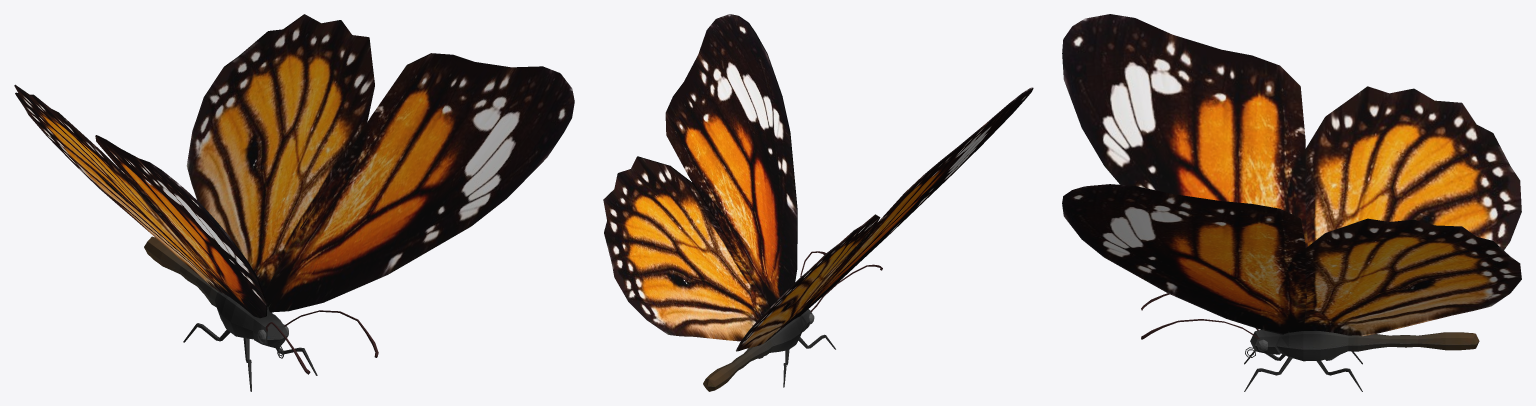
Rendered from mariposa.glb.
The picture shows the model from 3 angles, left to right: view 1: azimuth 30°, elevation 25°; view 2: azimuth 150°, elevation 25°; view 3: azimuth 270°, elevation 25°; orthographic projection. The views are drawn at different scales.
Parts seen in each view (by area): view 1: Node; view 2: Node; view 3: Node.
Part boxes in pixels (box(x1,y1,x2,y2)): Node: box(14, 14, 574, 391); Node: box(603, 14, 1033, 391); Node: box(1062, 14, 1521, 391).
Size of the model in its own units: 16.25 by 12.37 by 18.47.
Materials: 4 (1 with a texture image).
